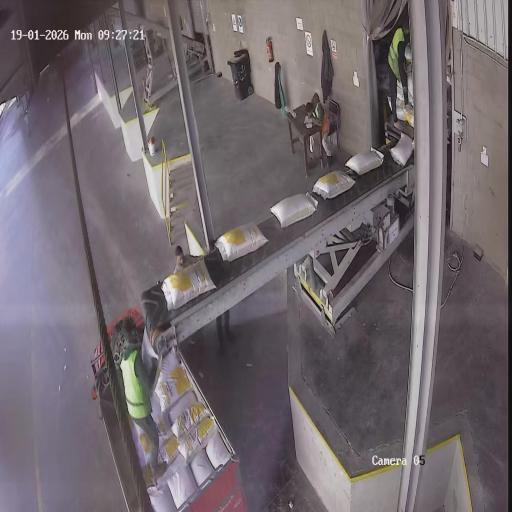c-belt-sack-count: (162, 261, 215, 309), (215, 224, 267, 261), (271, 192, 318, 229), (312, 171, 355, 199), (346, 148, 384, 176), (391, 133, 413, 166)
